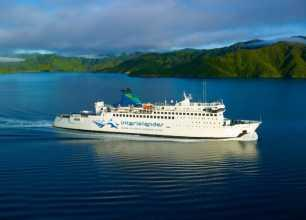youlun: (50, 88, 264, 137)
